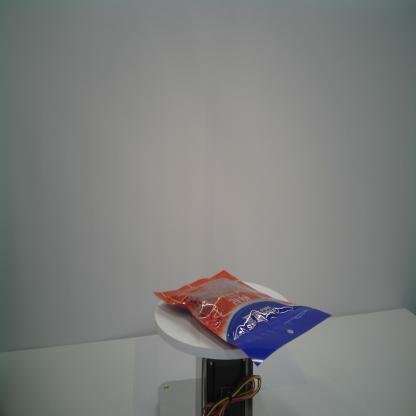Dried Fruit: (151, 269, 334, 370)
